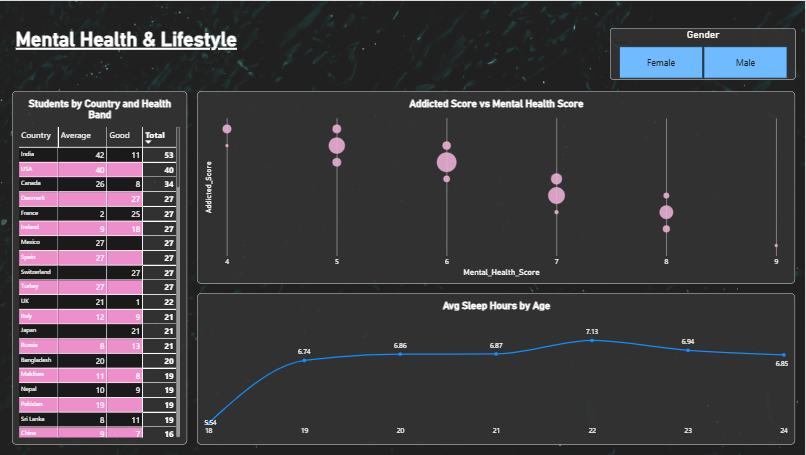

What the dashboard file says about the page in this screenshot:
{"tool":"powerbi","page":{"name":"Mental Health & Lifestyle","canvas":[1920,1080],"ordinal":1},"visuals":[{"type":"slicer","title":"Gender","fields":{"Values":["Student_Details.Gender"]},"box":[1454.2,63.8,442.2,123.3],"z":0},{"type":"pivotTable","title":"Students by Country and Health Band","fields":{"Columns":["Student_Details.Health Band"],"Rows":["Student_Details.Country"],"Values":["Student_Details.Total Students"]},"box":[29.8,214.7,416.7,841.9],"z":1000},{"type":"scatterChart","title":"Addicted Score vs Mental Health Score","fields":{"Size":["Student_Details.Total Students"],"X":["Student_Details.Mental_Health_Score"],"Y":["Student_Details.Addicted_Score"]},"box":[472,214.7,1424.4,459.2],"z":2000},{"type":"lineChart","title":"Avg Sleep Hours by Age","fields":{"Category":["Student_Details.Age"],"Y":["Student_Details.Avg Sleep Hours"]},"box":[472,695.2,1424.4,361.4],"z":3000},{"type":"textbox","title":"Mental Health & Lifestyle","box":[29.8,63.8,544.3,55.3],"z":4000}]}

Visuals, with their boxes in screenshot pixels (x1, y1, x2, y2), scaled from the page's 1920x1080 canvas onto the 806x455 screenshot:
"Gender" slicer: 610 27 796 79
"Students by Country and Health Band" pivotTable: 13 90 187 445
"Addicted Score vs Mental Health Score" scatterChart: 198 90 796 284
"Avg Sleep Hours by Age" lineChart: 198 293 796 445
"Mental Health & Lifestyle" textbox: 13 27 241 50
